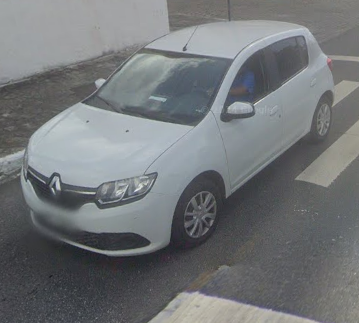car: (18, 3, 337, 261)
